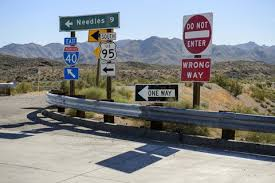doNotEnter: (182, 10, 215, 55)
oneWay: (133, 83, 180, 103)
